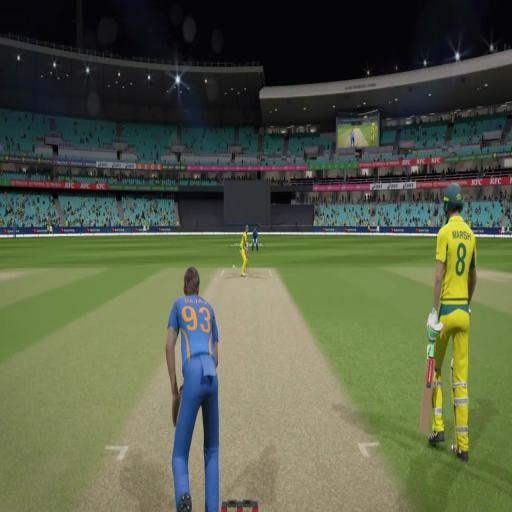ball: (232, 261, 235, 268)
